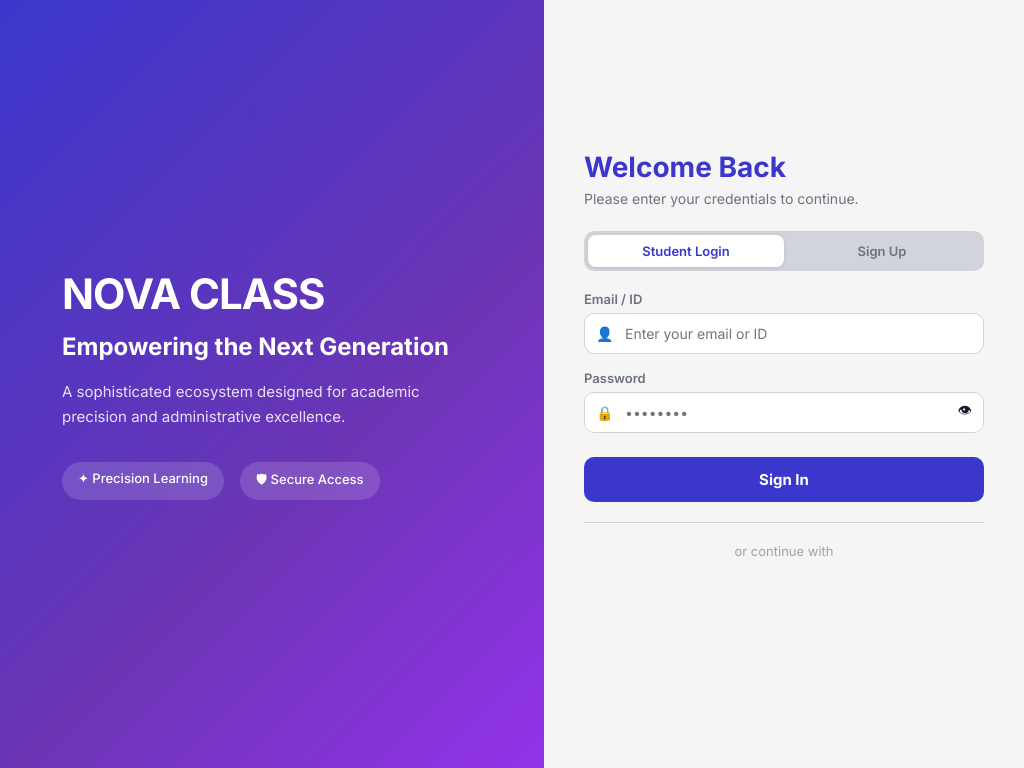
it: Login email/ID + register form › shows the backend's minimum-length error when the ID is rejected
Click the button "Sign Up" at [882, 250], box left=784, top=234, right=980, bottom=266
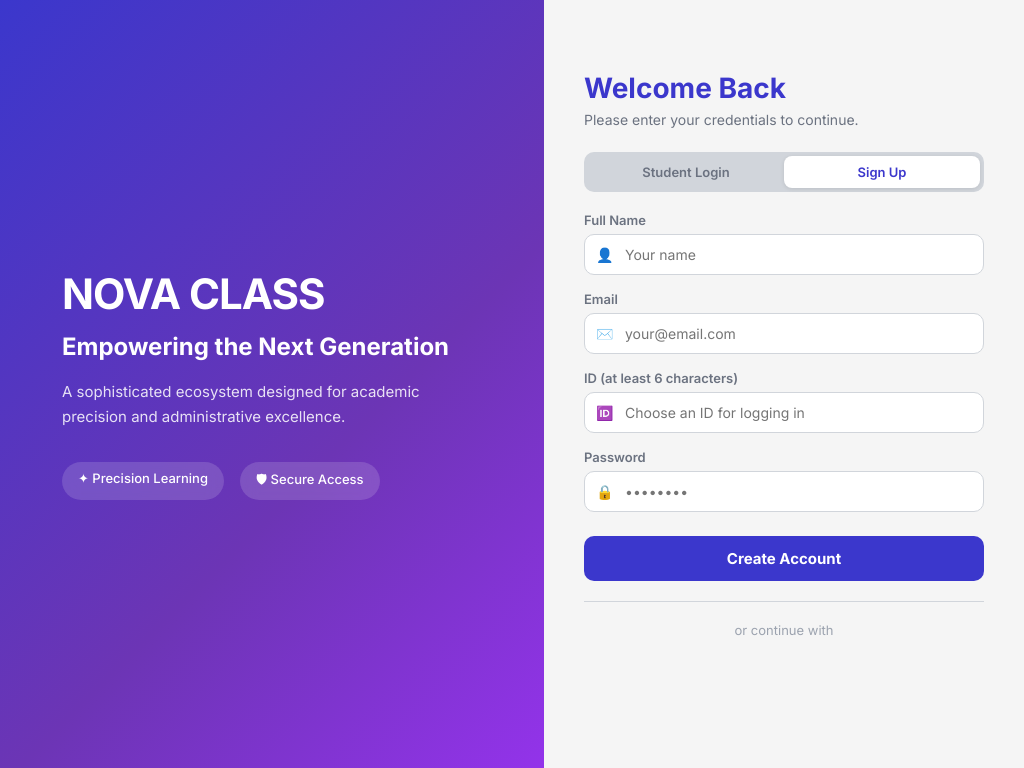
Type "Vic" into the field with placeholder "Your name" at [784, 254], box left=584, top=234, right=984, bottom=274
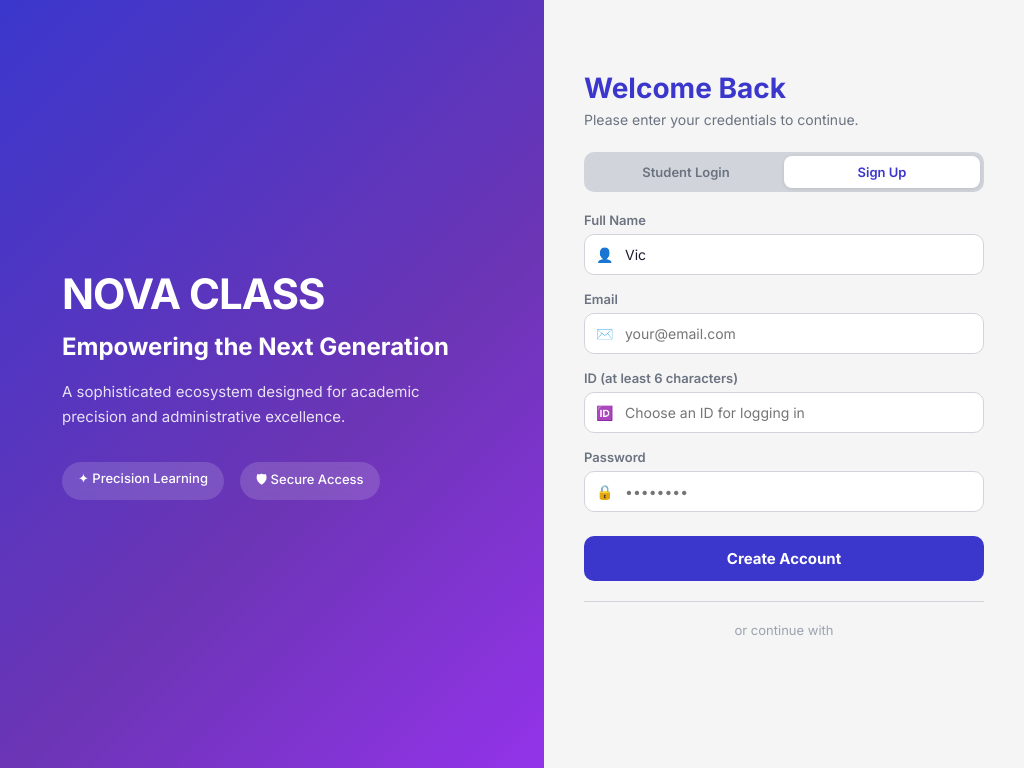
Type "vic@nova.com" into the field with placeholder "your@email.com" at [784, 333], box left=584, top=312, right=984, bottom=354
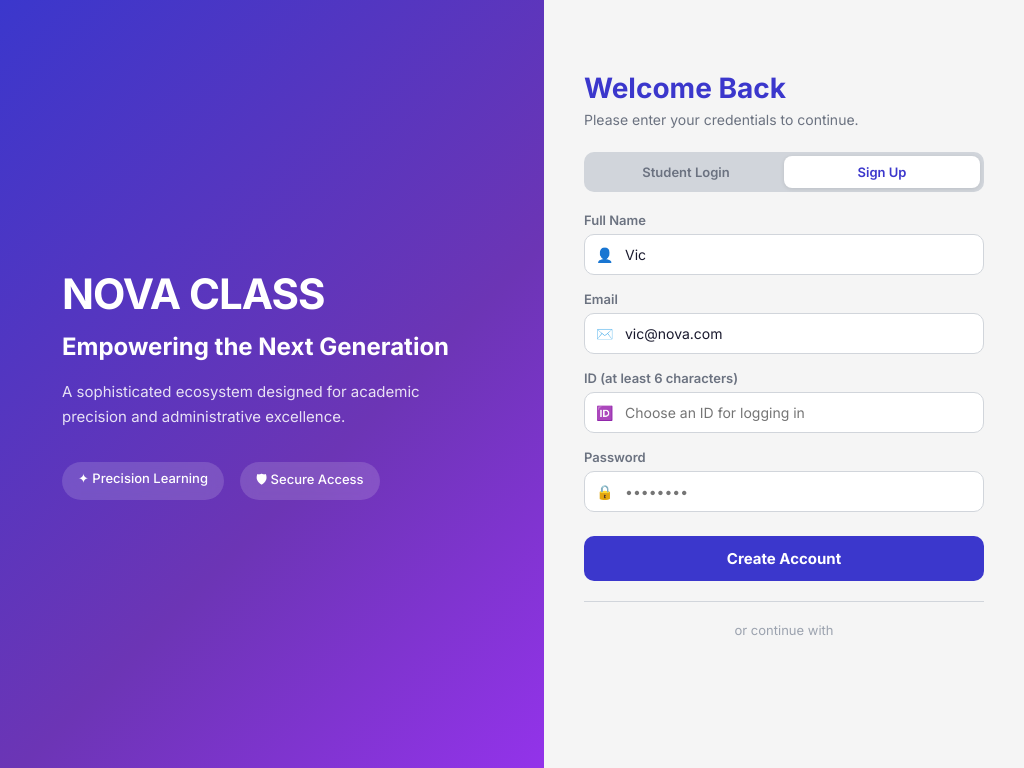
Type "abc12" into the field with placeholder "Choose an ID for logging in" at [784, 412], box left=584, top=392, right=984, bottom=432
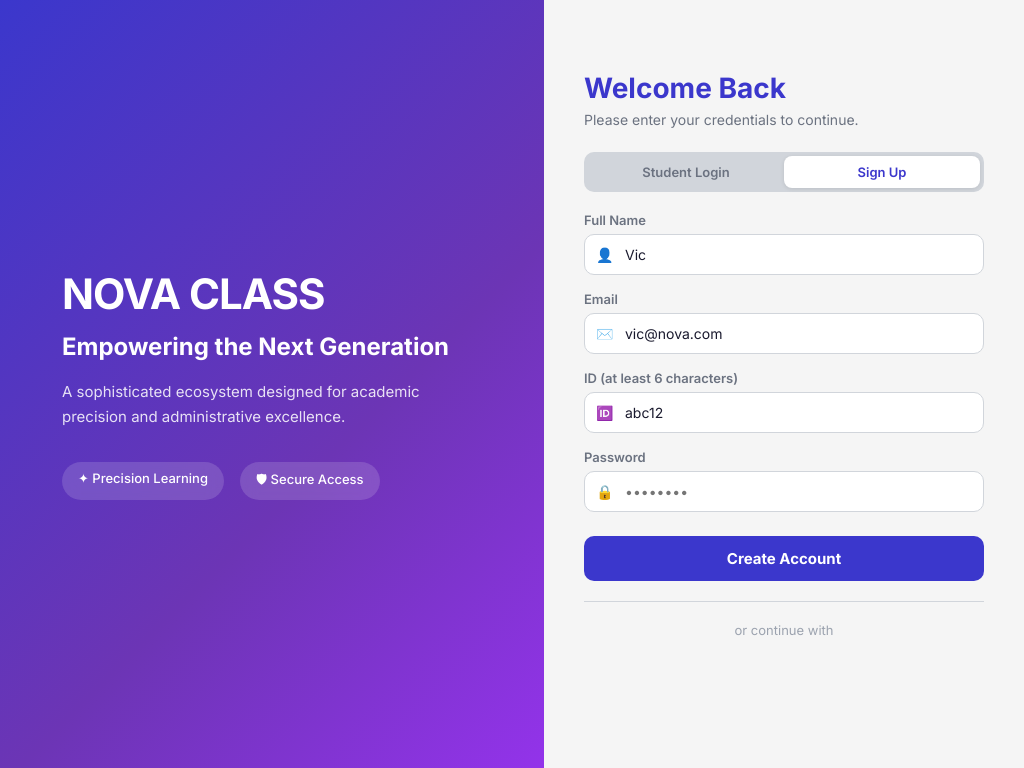
Type "secret" into the password field with placeholder "••••••••" at [784, 491], box left=584, top=470, right=984, bottom=512
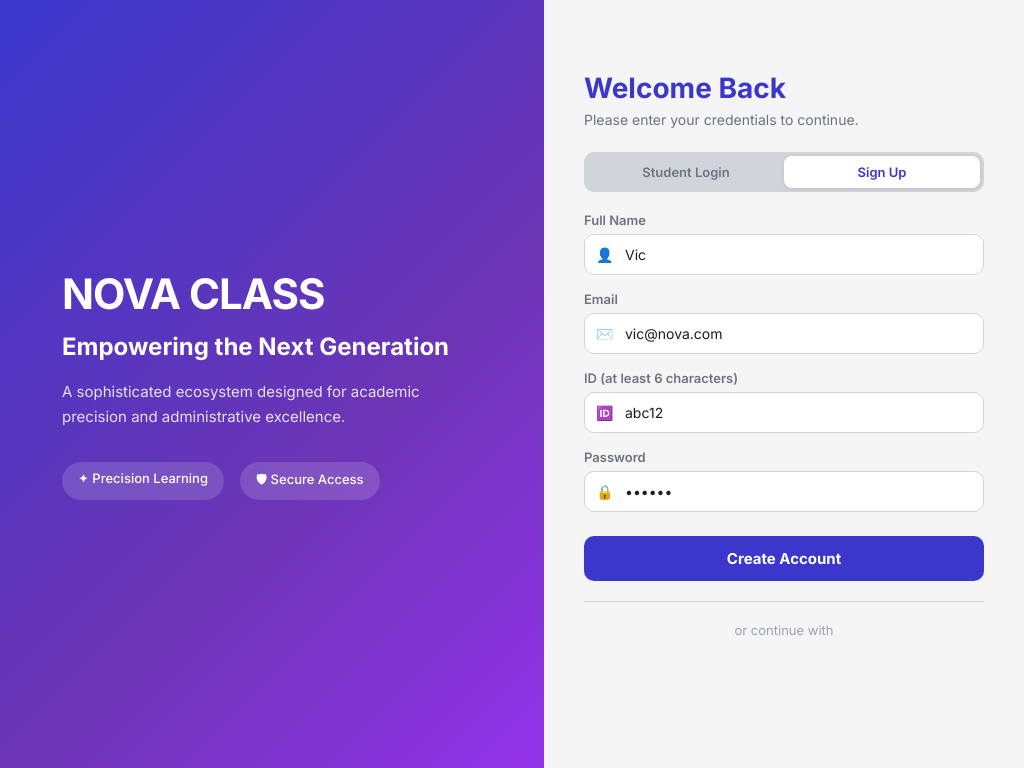
Click the button "Create Account" at [784, 558], box left=584, top=536, right=984, bottom=580
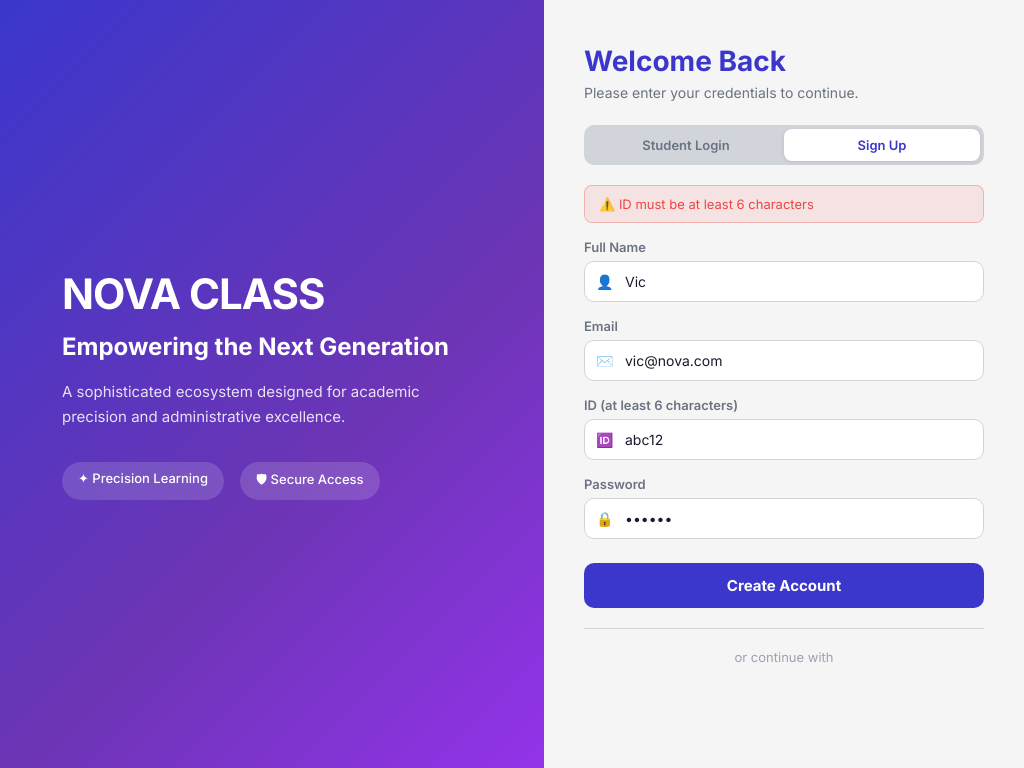
Check: the text "⚠️ ID must be at least 6 characters" is shown, box left=584, top=184, right=984, bottom=222
